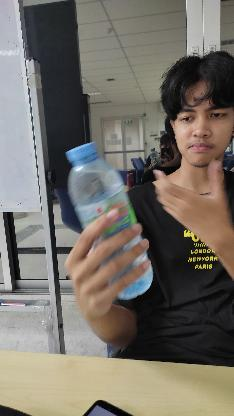Plastic Bottle: (63, 138, 158, 304)
